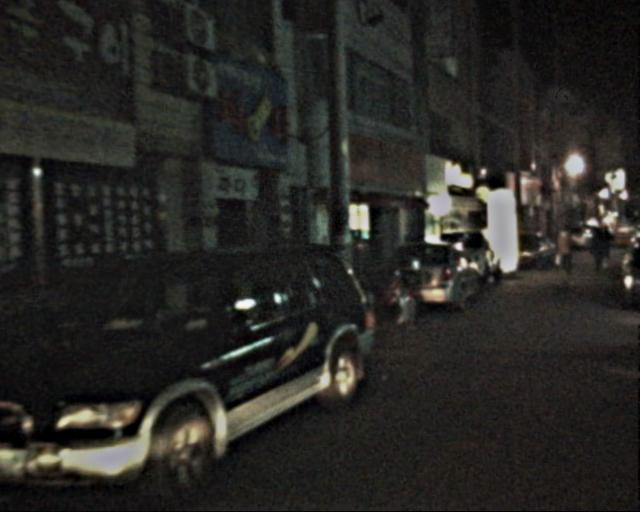person: (554, 226, 584, 279), (588, 227, 618, 275)
